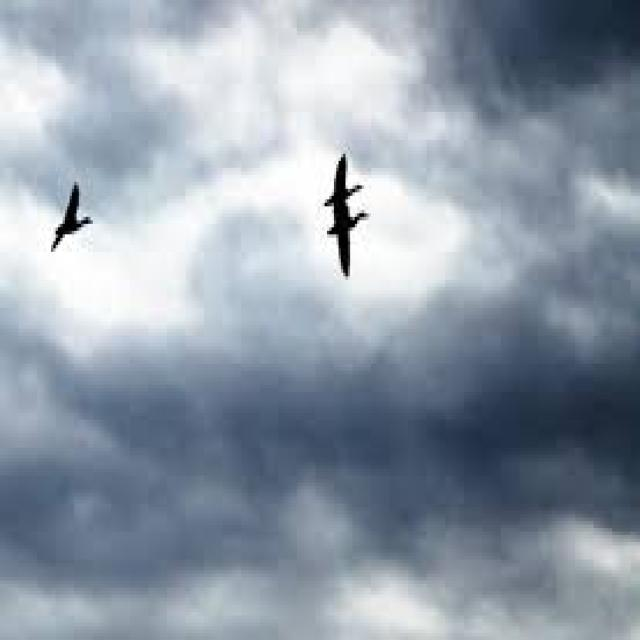bird: (306, 114, 376, 288), (27, 147, 104, 266)
